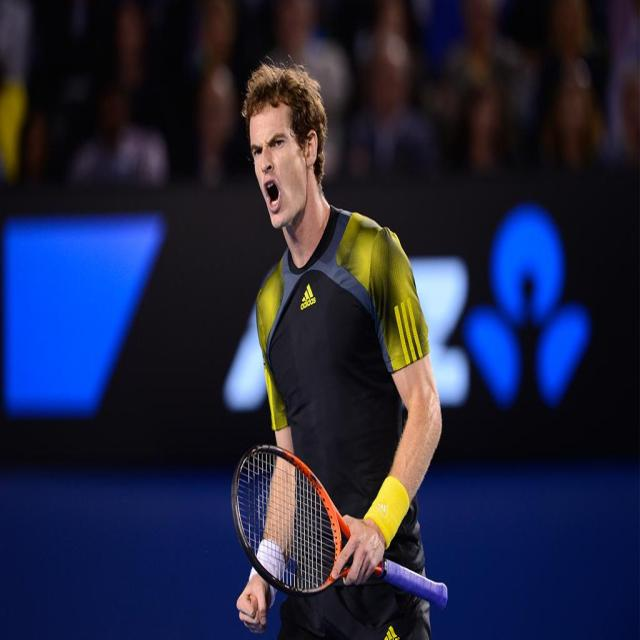Face: (245, 99, 312, 237)
